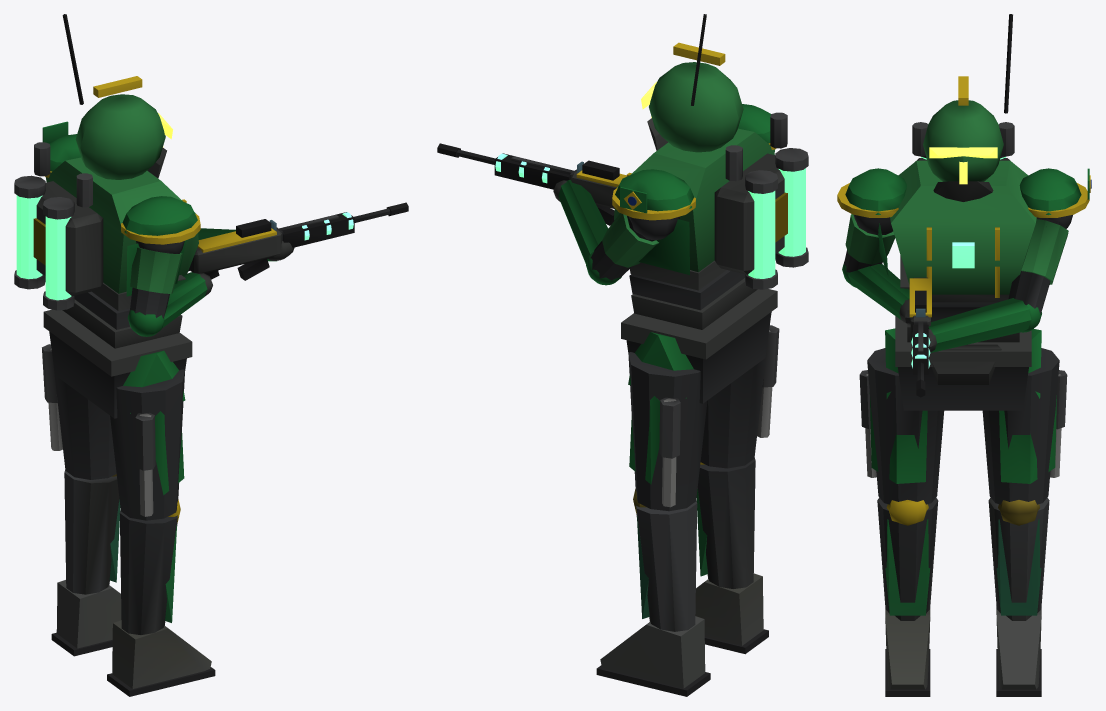
The model's file is u_marine.glb.
3 renders of one model, left to right at view 1: azimuth 30°, elevation 25°; view 2: azimuth 150°, elevation 25°; view 3: azimuth 270°, elevation 25°, orthographic. The views are drawn at different scales.
Visible parts, largest first — view 1: Marine_Walls, Marine_shL, Marine_Details, Marine_shR, Marine_thL, Marine_thR; view 2: Marine_Walls, Marine_shR, Marine_shL, Marine_Details, Marine_thR, Marine_thL; view 3: Marine_Walls, Marine_shR, Marine_shL, Marine_thL, Marine_thR, Marine_Details.
Boxes of the visible parts, box(x1,y1,x2,y2) form: Marine_Walls: box(16, 94, 408, 418); Marine_shL: box(107, 499, 215, 696); Marine_Details: box(14, 14, 353, 376); Marine_shR: box(51, 470, 121, 656); Marine_thL: box(110, 369, 184, 520); Marine_thR: box(42, 344, 116, 479); Marine_Walls: box(437, 62, 805, 403); Marine_shR: box(596, 489, 710, 696); Marine_shL: box(695, 458, 768, 654); Marine_Details: box(495, 14, 808, 359); Marine_thR: box(628, 352, 707, 511); Marine_thL: box(700, 325, 779, 468); Marine_Walls: box(837, 100, 1089, 410); Marine_shR: box(988, 497, 1049, 696); Marine_shL: box(877, 497, 938, 696); Marine_thL: box(859, 348, 944, 504); Marine_thR: box(982, 348, 1067, 504); Marine_Details: box(895, 14, 1091, 368).
Bounding box in the file's own units: 0.4821 × 0.8285 × 0.2985.
